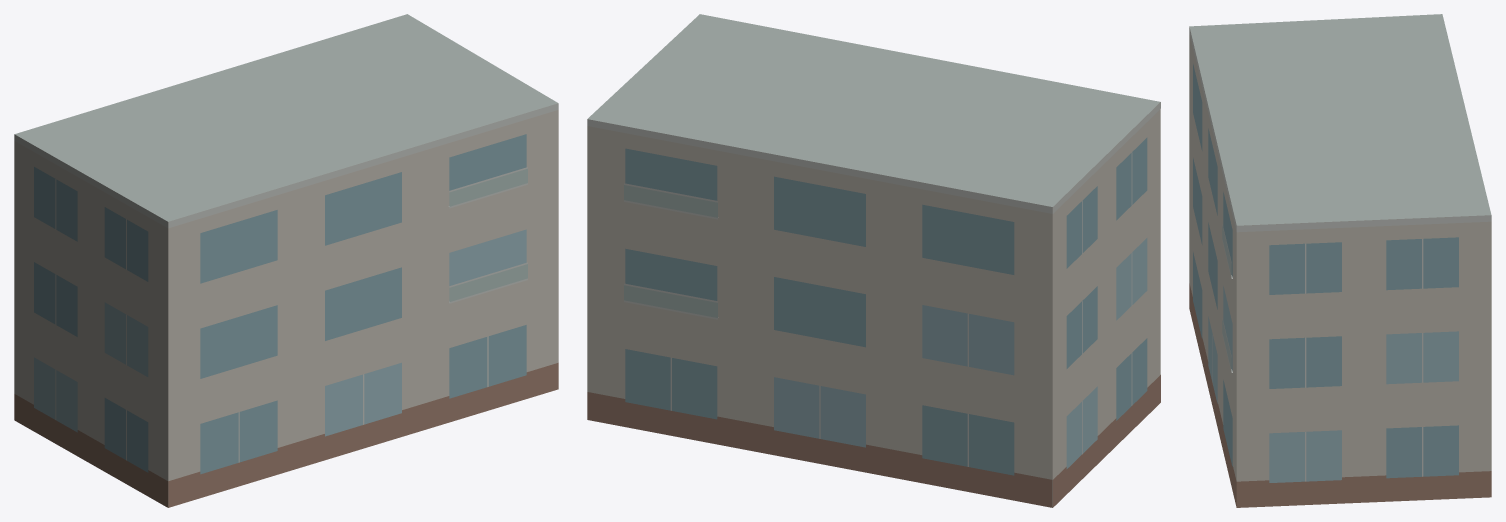
File: survey-upis-32757717.glb
The picture shows the model from 3 angles, left to right: view 1: azimuth 30°, elevation 25°; view 2: azimuth 150°, elevation 25°; view 3: azimuth 270°, elevation 25°; orthographic projection. The views are drawn at different scales.
Parts seen in each view (by area): view 1: survey-upis-32757717.tmp; view 2: survey-upis-32757717.tmp; view 3: survey-upis-32757717.tmp.
Part boxes in pixels (x1=…): survey-upis-32757717.tmp: x1=14, y1=14, x2=558, y2=507; survey-upis-32757717.tmp: x1=587, y1=14, x2=1160, y2=507; survey-upis-32757717.tmp: x1=1189, y1=14, x2=1491, y2=507.
Size of the model in its own units: 17.07 by 10.6 by 10.3.
